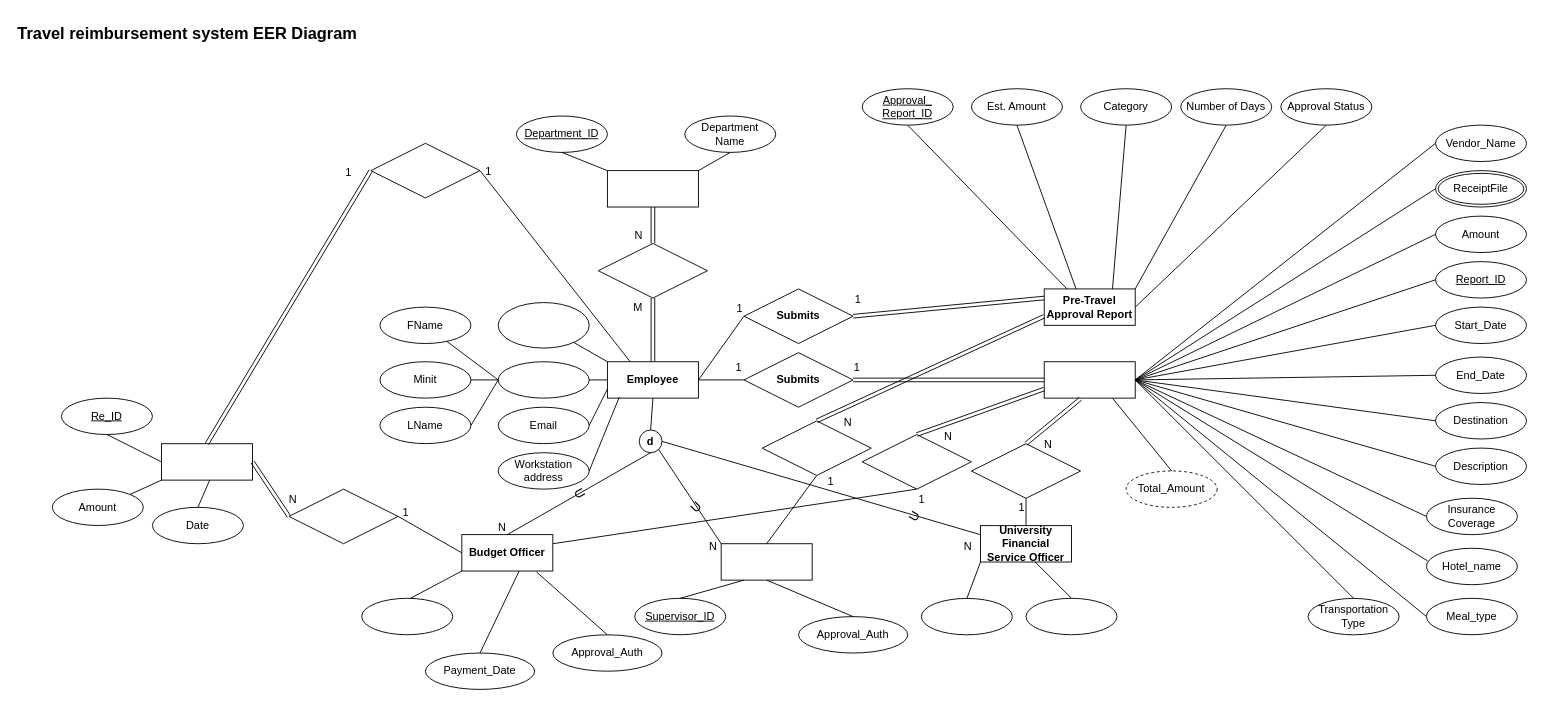
The diagram is 1542 pixels wide and 705 high, and some of its shapes have lost their labels. Here are the shapes that lost their labels. From the top down, the box of each, then its label:
(370, 142, 480, 198): Reimbursed to
(607, 170, 698, 207): Department
(597, 243, 708, 298): Belongs to
(497, 302, 589, 348): Employee_ID
(497, 361, 589, 398): Name
(1043, 361, 1135, 398): Post-Travel Expense Report
(161, 443, 253, 480): Reimbursement
(761, 420, 871, 475): Approved by
(861, 434, 971, 489): Reimbursed by
(971, 443, 1081, 498): Overseen by
(288, 488, 398, 544): Processed by
(720, 543, 812, 580): Supervisor
(361, 597, 453, 635): BudgetOfficer_ID
(920, 598, 1012, 635): UFS_ID
(1025, 597, 1117, 635): Role
